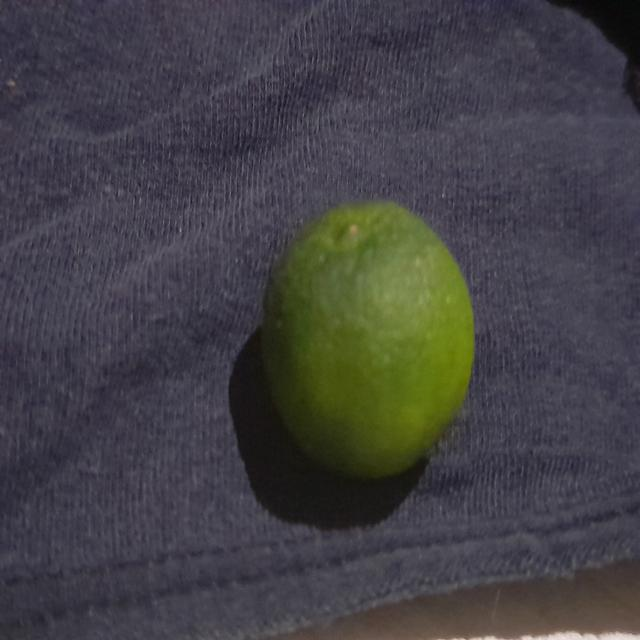heathy: (258, 194, 486, 483)
